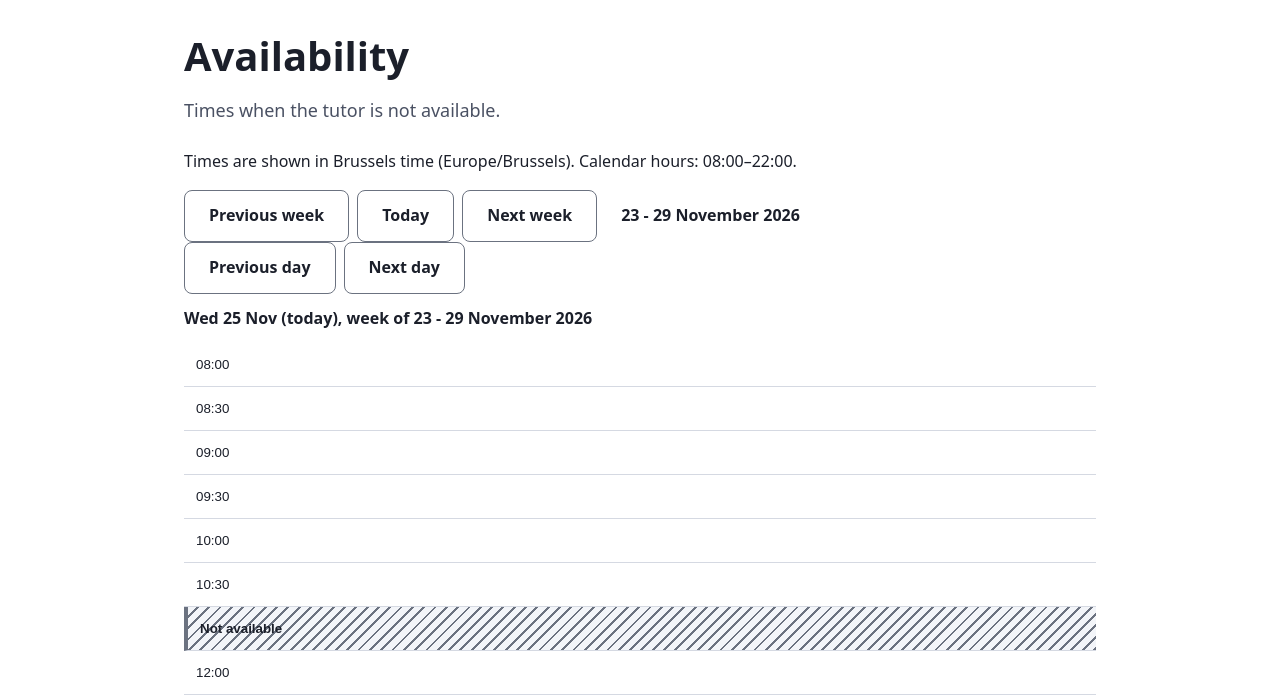
Scenario: availability on mobile (one-day list) › shrinks a tap to 30 minutes when the next interval is blocked
The image size is (1280, 696).
Click the button named ", 10:30" at (213, 585), box 184,563 -> 1096,607
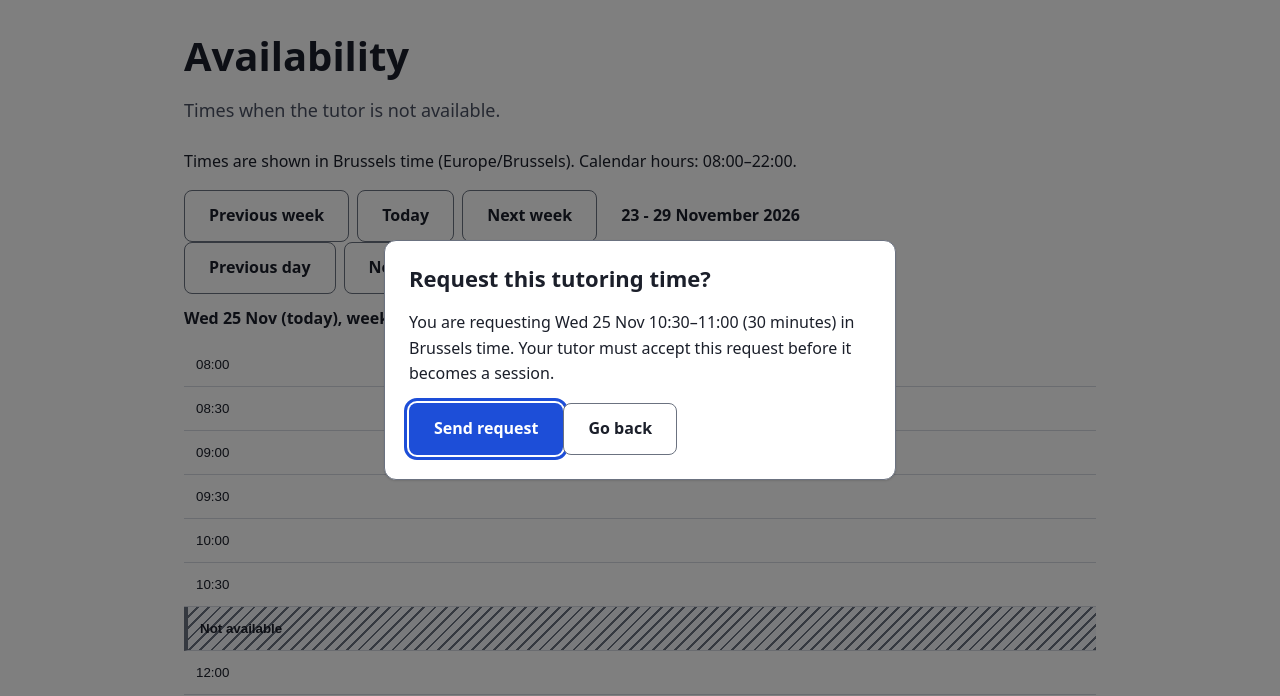
Now the dialog "Request this tutoring time?" shows "10:30", box 649,311 -> 690,333
Now the dialog "Request this tutoring time?" shows "11:00", box 698,311 -> 739,333
Now the dialog "Request this tutoring time?" shows "30 minutes", box 748,311 -> 831,333
